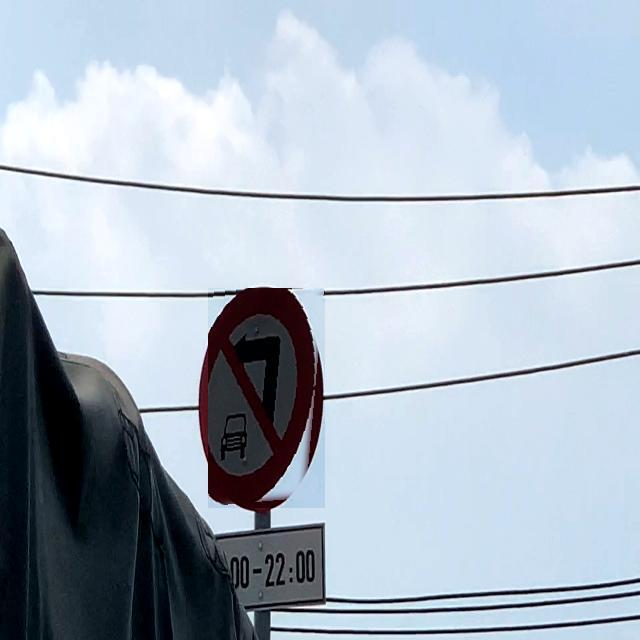P-103c: (208, 288, 325, 508)
